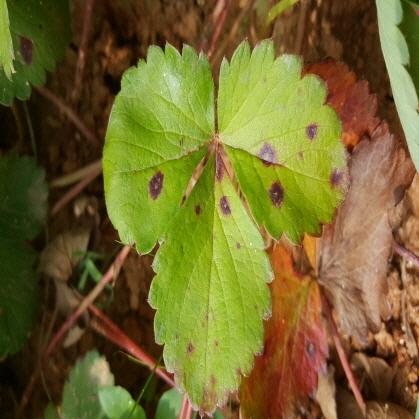Leaf Spot: (146, 140, 275, 418), (217, 36, 351, 247), (101, 39, 217, 256), (235, 226, 329, 418), (0, 0, 73, 106)
